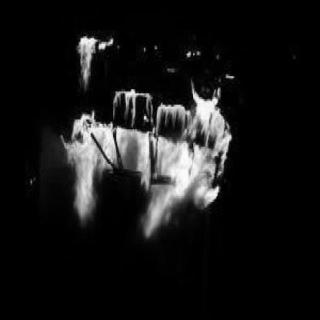Fire: (60, 91, 232, 241), (72, 35, 114, 91)
